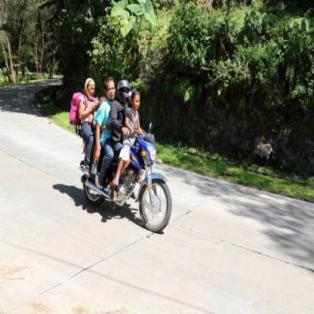Motocicleta: (76, 118, 175, 234)
